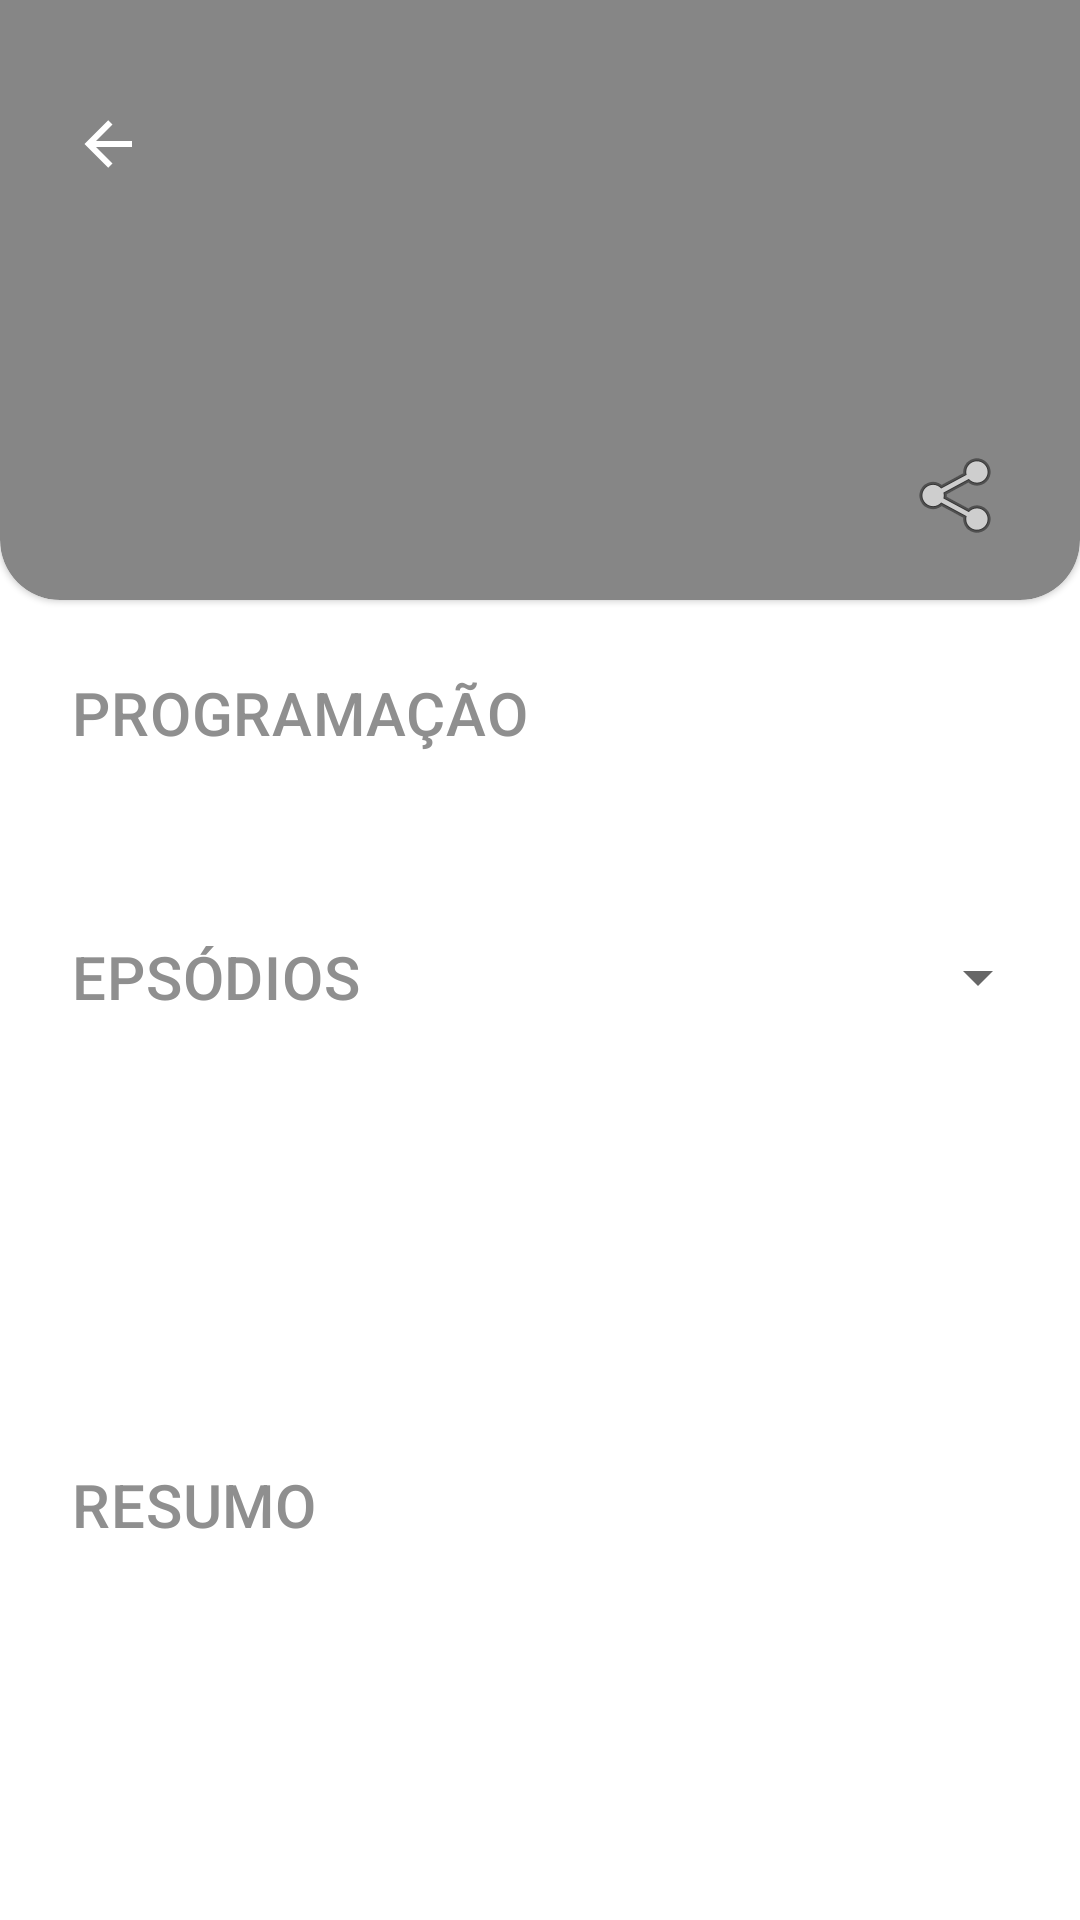

Icons on this 1080*1920 Android screen, each with its box as rect(x1, y1, x2, y2):
share: rect(919, 458, 991, 533)
Voltar: rect(85, 120, 132, 168)
